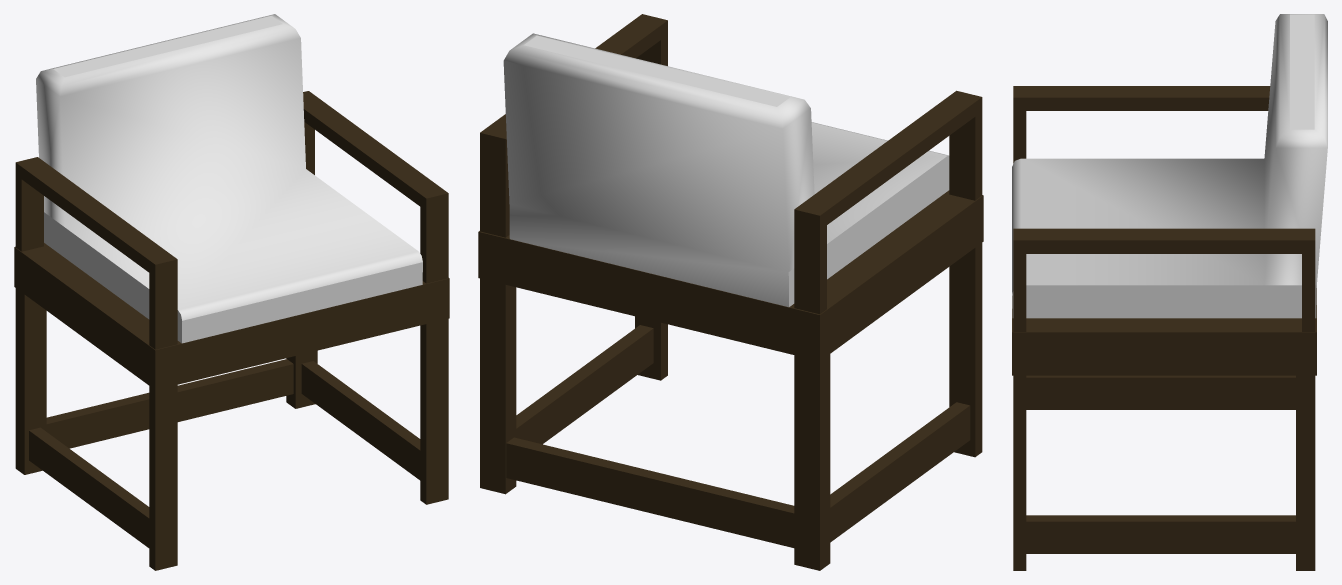
File: Chair_B.fbx
The picture shows the model from 3 angles, left to right: view 1: azimuth 30°, elevation 25°; view 2: azimuth 150°, elevation 25°; view 3: azimuth 270°, elevation 25°; orthographic projection. The views are drawn at different scales.
Parts seen in each view (by area): view 1: Chair_B; view 2: Chair_B; view 3: Chair_B.
Part boxes in pixels (x1=…): Chair_B: x1=14, y1=14, x2=449, y2=570; Chair_B: x1=478, y1=14, x2=983, y2=570; Chair_B: x1=1012, y1=14, x2=1327, y2=570.
Size of the model in its own units: 72.05 by 91.34 by 61.98.
